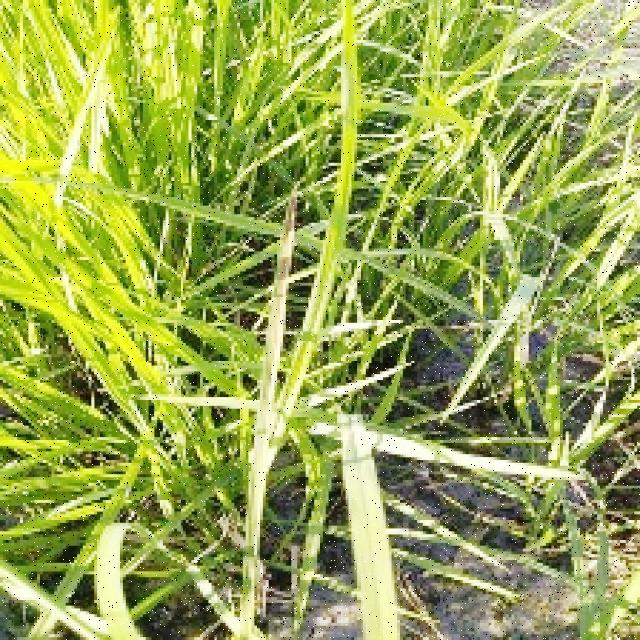-: (0, 1, 256, 637)
